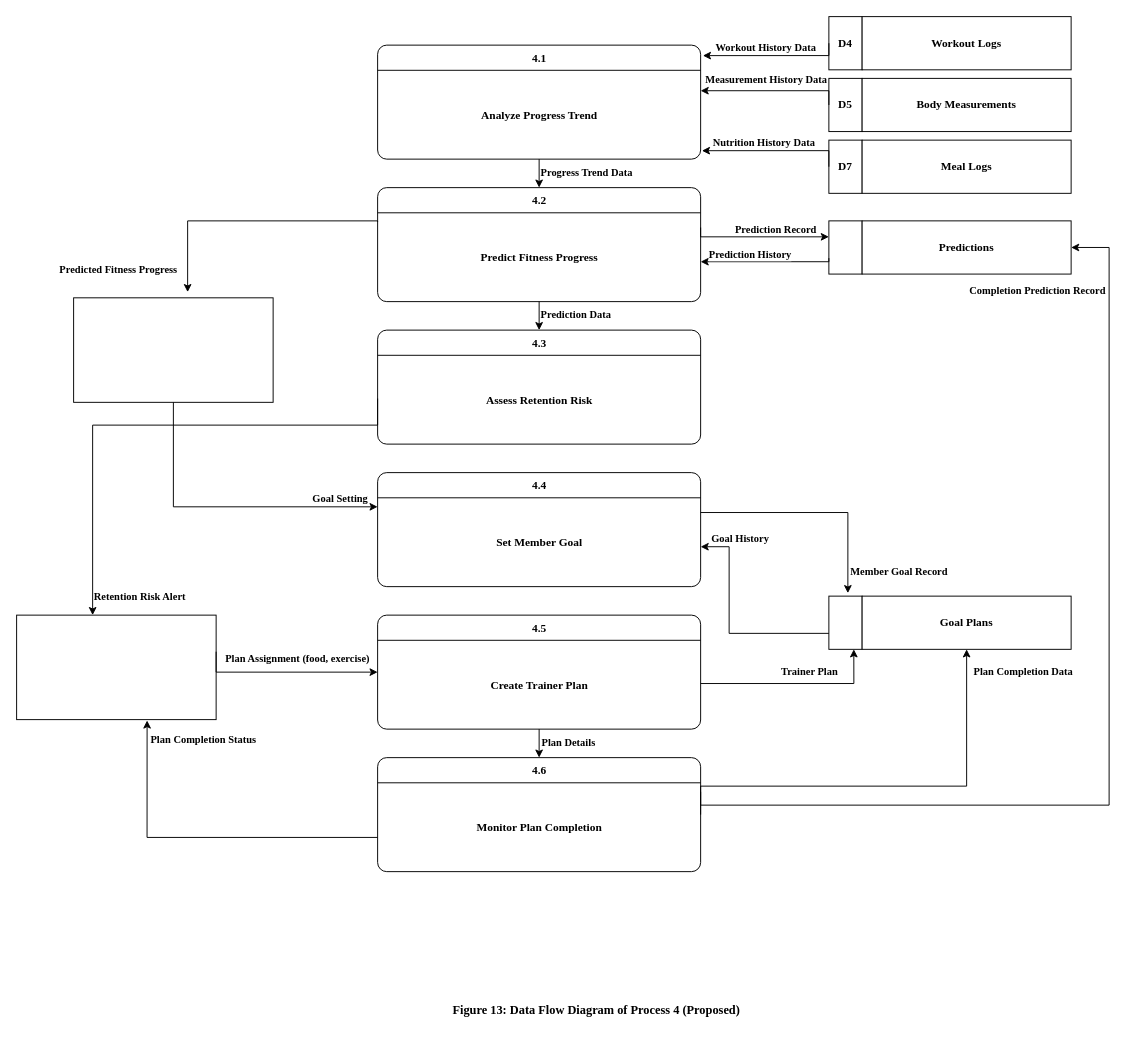
This 1135x1040 diagram has some shape labels left out. The shapes that lost their labels are listed below. From the top down, each one's centre as x and y in pixels, then its label:
point 845,247: D10
point 173,349: MEMBER
point 845,622: D11
point 116,667: TRAINER
